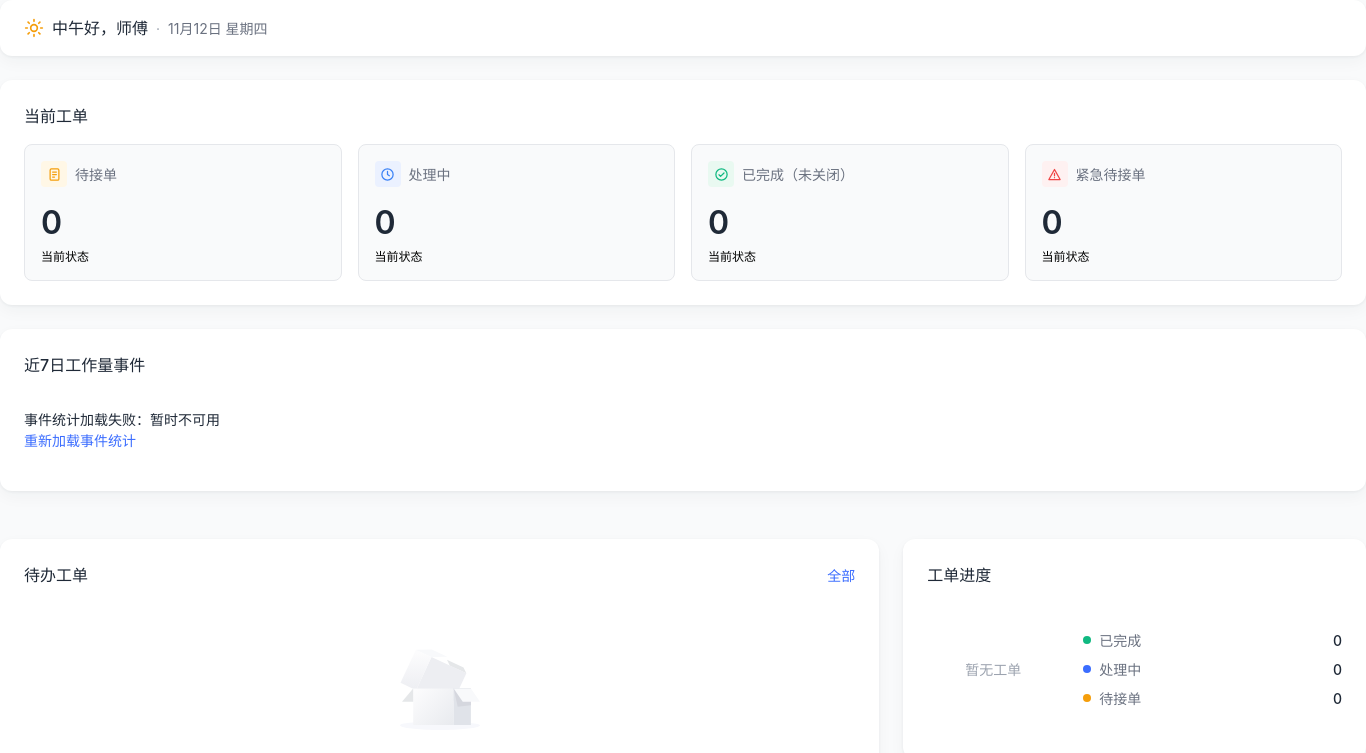
Test: 人员当前负荷与事件统计分开 › 统计失败不显示0事件，原地重试后显示真实事件
This screenshot has width=1366, height=753.
Expected: the message "事件统计加载失败：暂时不可用 重新加载事件统计" is shown, [24,411,220,450]
Click the button "重新加载事件统计": (80, 440) [24,430,136,450]
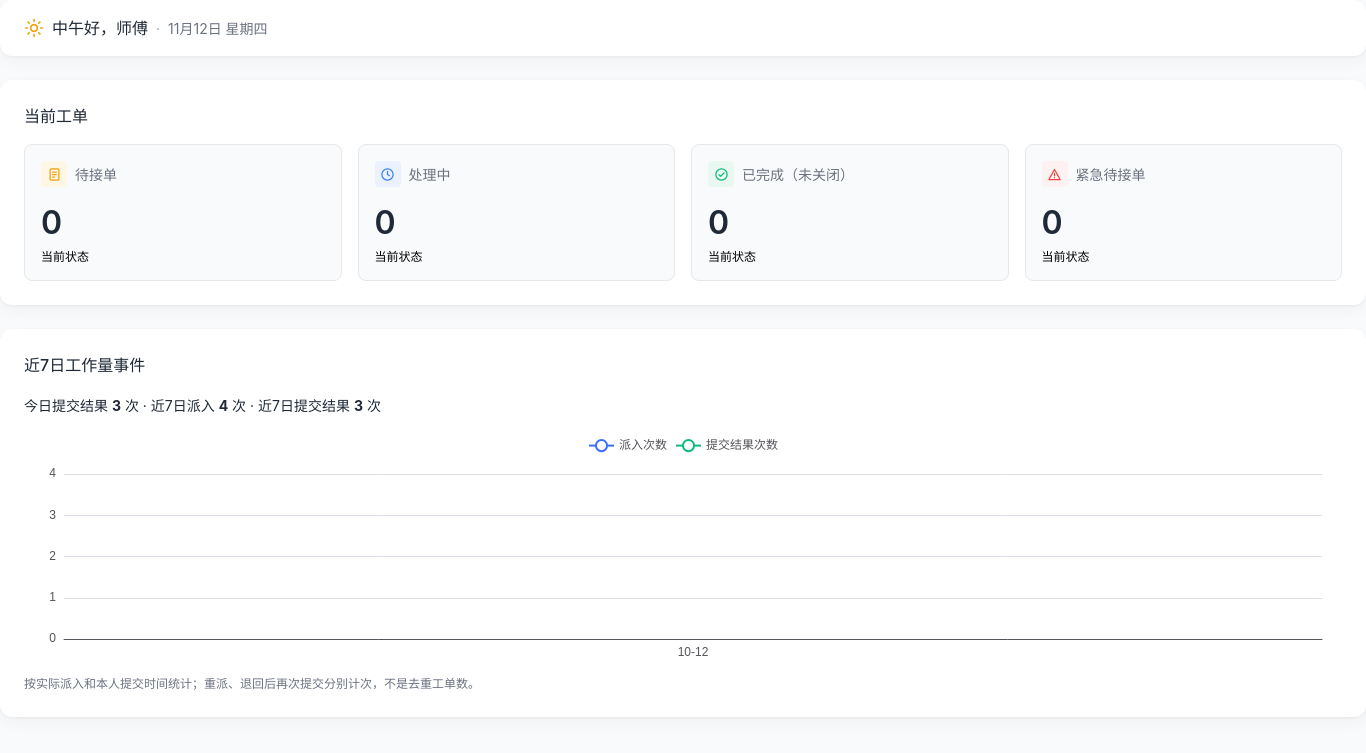
Expected: the text with test id "today-submitted" reads "3", [112,397,121,414]
